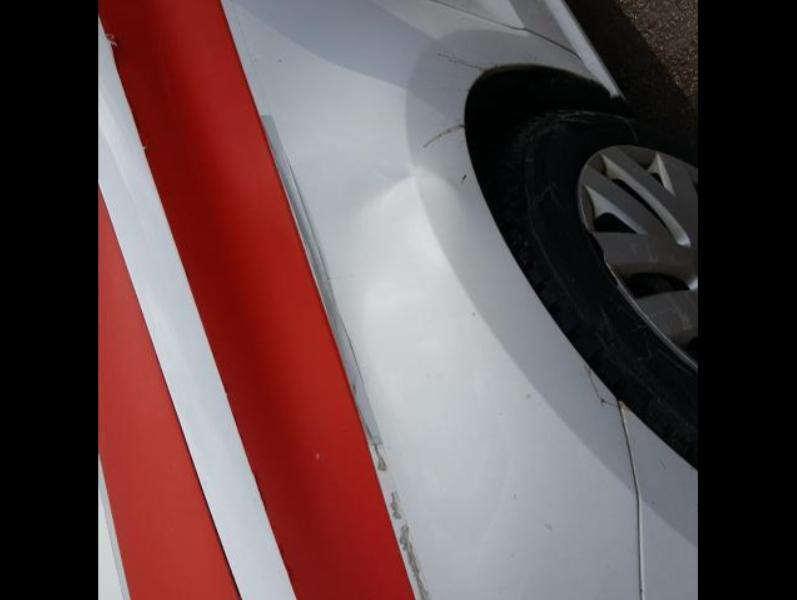Corrosion: (358, 410, 430, 600)
Dent: (258, 96, 435, 600), (350, 158, 470, 264), (358, 0, 482, 76)
Scratch: (272, 124, 372, 406), (582, 362, 632, 410), (416, 118, 464, 150), (460, 168, 472, 182)
